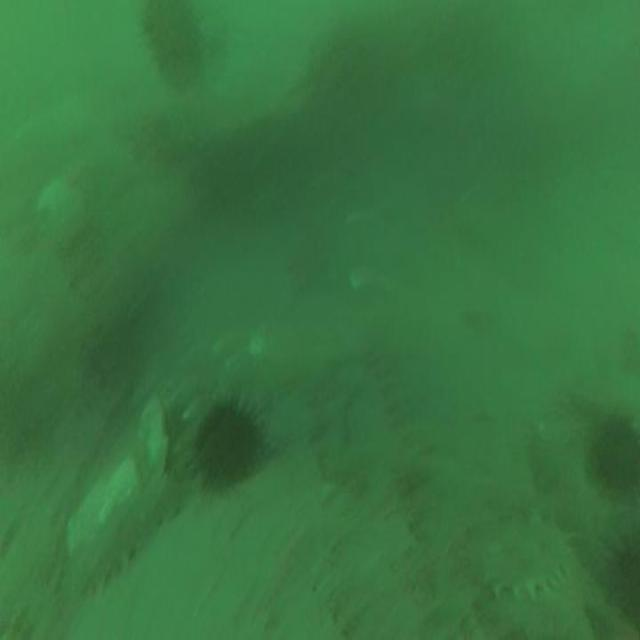echinus: (143, 0, 207, 88), (196, 408, 262, 490), (592, 420, 640, 493), (605, 540, 640, 636)
holothurian: (78, 470, 180, 590), (480, 521, 572, 599)
